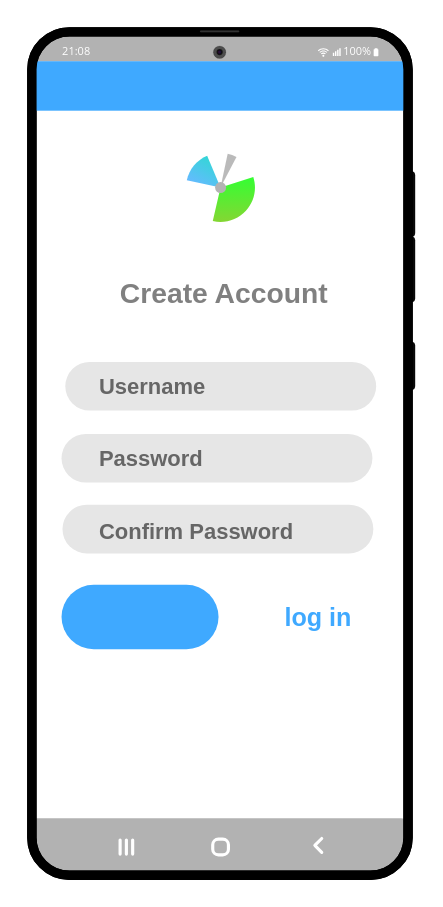
Some shapes in this 443 by 907 pixel diagram are drawn without their labels. The centre of each missing label's shape, as x and y in pixels:
Chrono: pixel 219 85
Register: pixel 139 616
